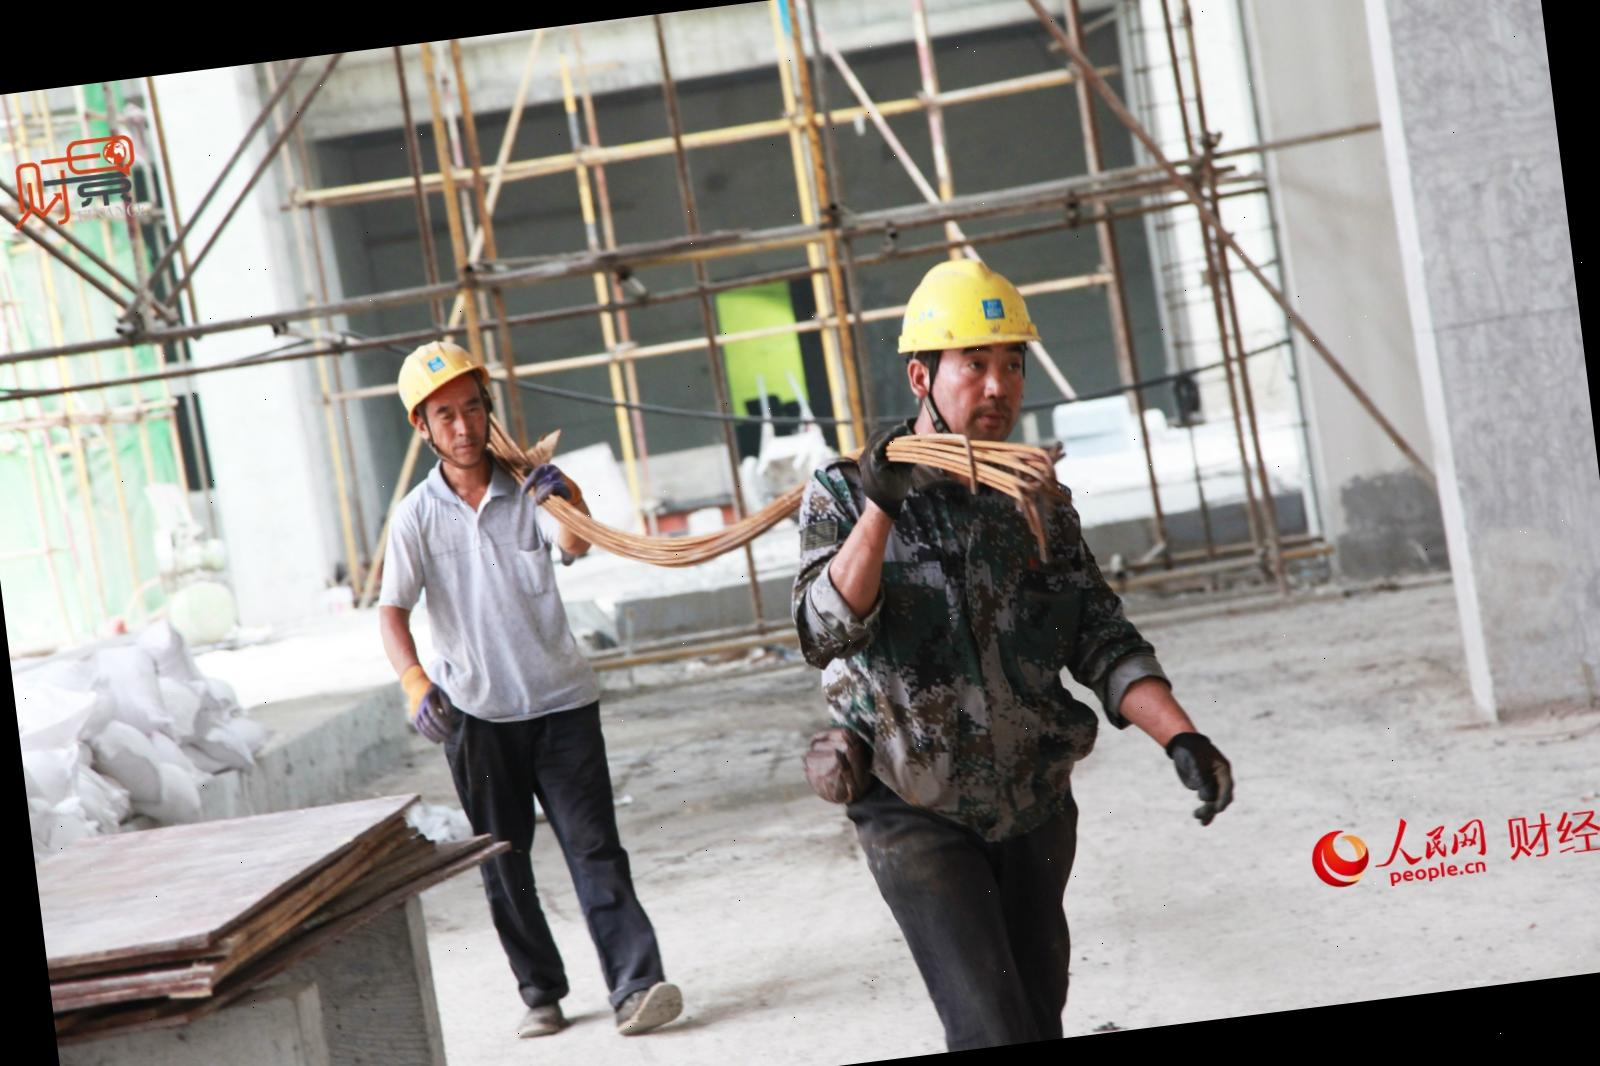helmet: (880, 240, 1044, 369), (383, 332, 501, 416)
no_wear: (803, 439, 1094, 839), (388, 458, 596, 721)
